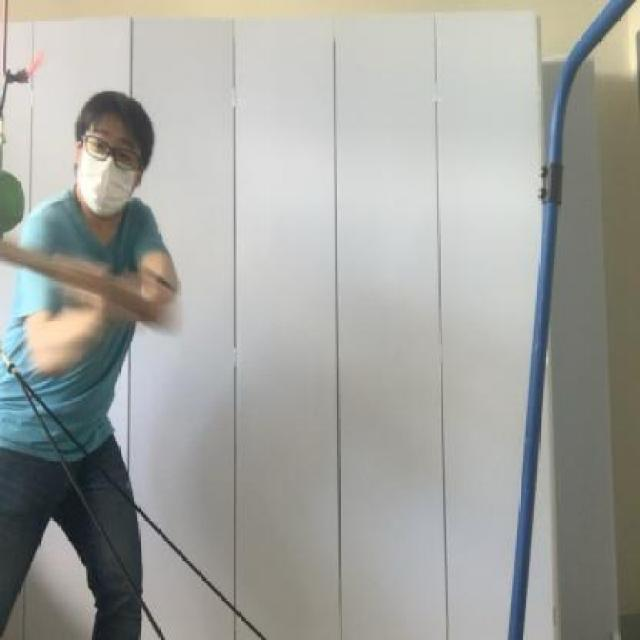baseball: (1, 162, 41, 252)
